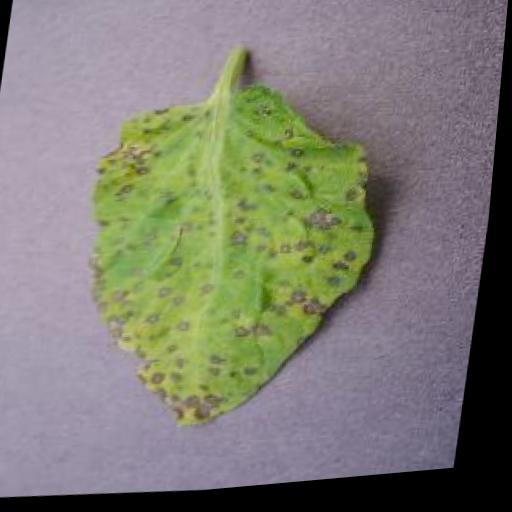Septoria: (69, 69, 404, 451)
